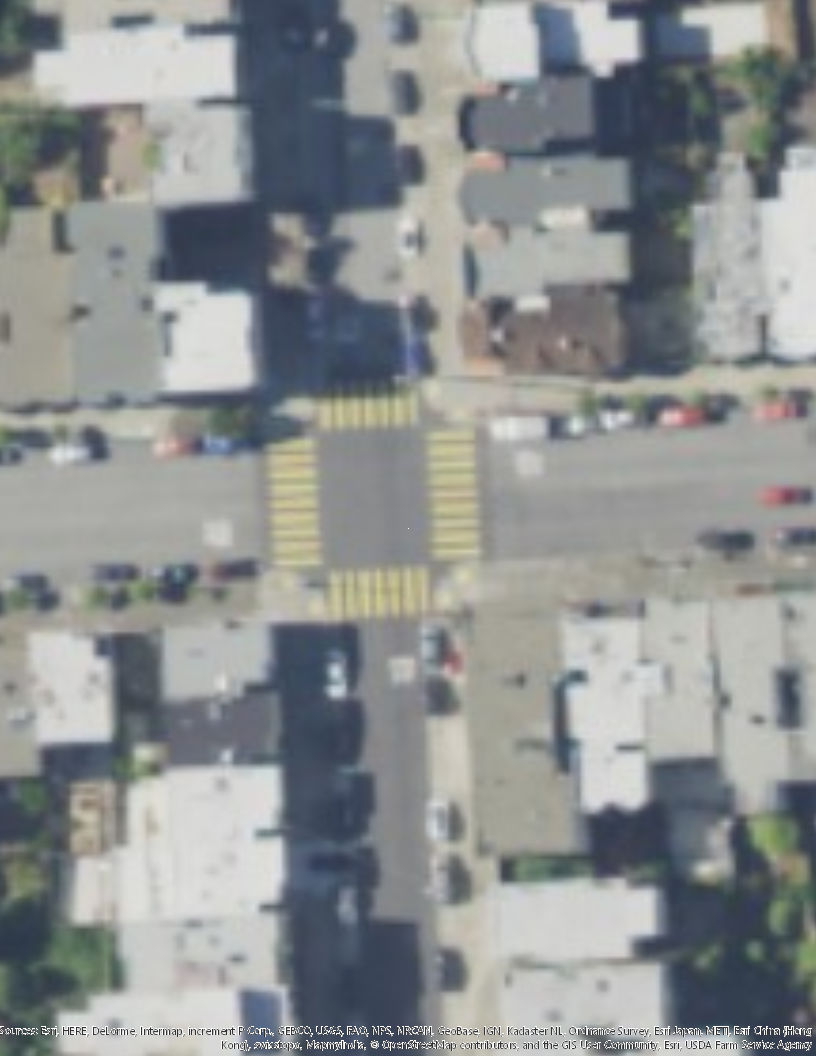zebracross: (260, 428, 323, 562), (428, 426, 481, 565), (326, 561, 430, 617), (317, 377, 419, 430)
